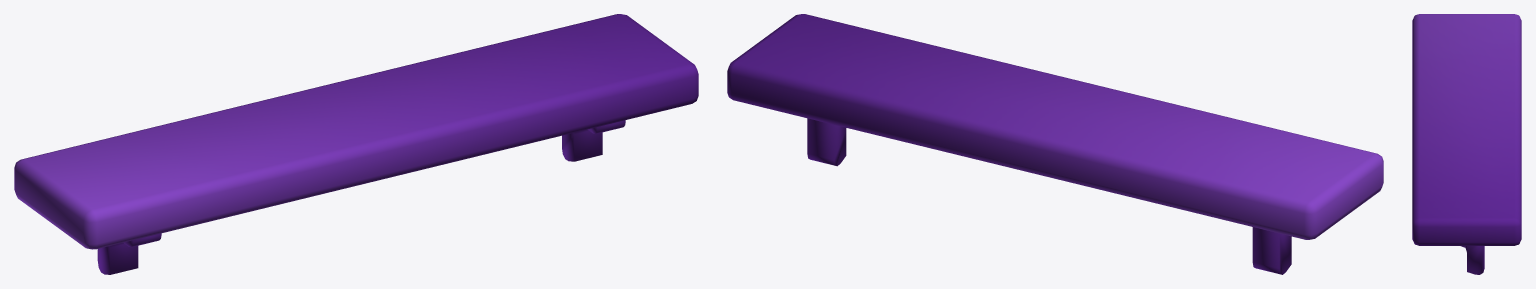
Rendered from Shelf_2.fbx.
3 views of the same model, side by side, from view 1: azimuth 30°, elevation 25°; view 2: azimuth 150°, elevation 25°; view 3: azimuth 270°, elevation 25° (orthographic). The views are drawn at different scales.
Parts seen in each view (by area): view 1: Shelf_2; view 2: Shelf_2; view 3: Shelf_2.
Boxes of the visible parts, box(x1,y1,x2,y2) form: Shelf_2: box(14, 14, 698, 274); Shelf_2: box(727, 14, 1383, 274); Shelf_2: box(1412, 14, 1521, 274).
Size of the model in its own units: 1.16 by 0.194 by 0.2556.
